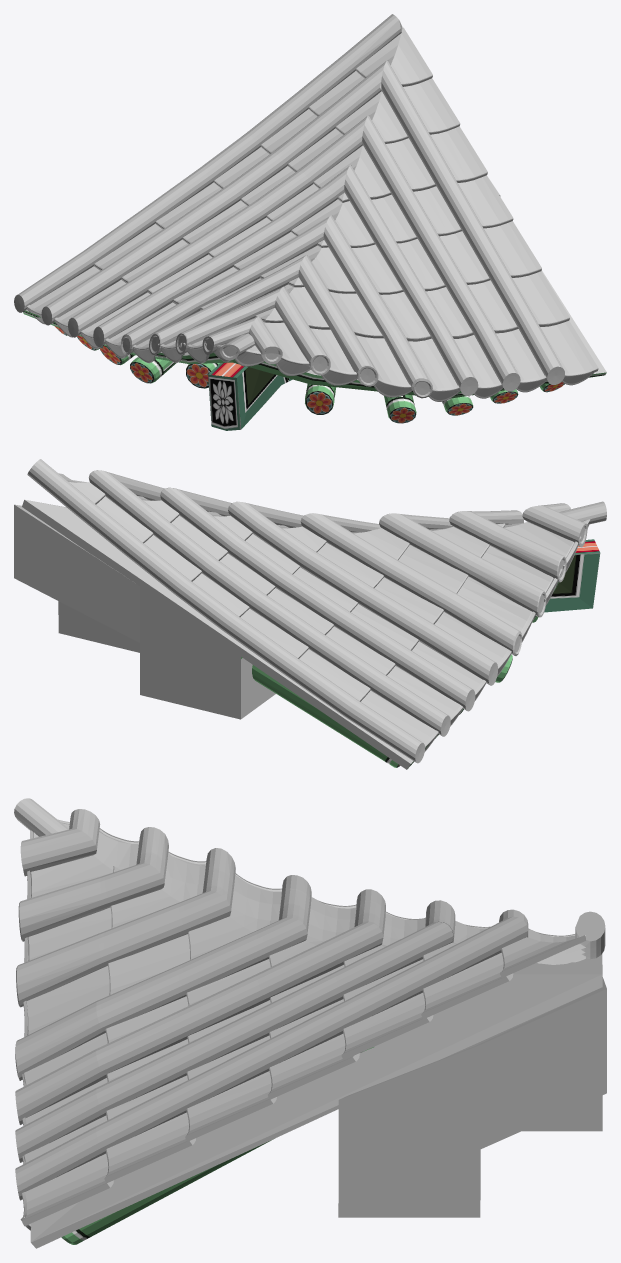
Rendered from SM_R_RoofCorner_9.fbx.
The picture shows the model from 3 angles, top to bottom: view 1: azimuth 30°, elevation 25°; view 2: azimuth 150°, elevation 25°; view 3: azimuth 270°, elevation 25°; orthographic projection. The views are drawn at different scales.
Visible parts, largest first — view 1: SM_R_RoofCorner_9_LOD0; view 2: SM_R_RoofCorner_9_LOD0; view 3: SM_R_RoofCorner_9_LOD0.
Boxes of the visible parts, <box> form: SM_R_RoofCorner_9_LOD0: <box>14,14,606,430</box>; SM_R_RoofCorner_9_LOD0: <box>14,459,606,769</box>; SM_R_RoofCorner_9_LOD0: <box>14,798,606,1248</box>.
Bounding box in the file's own units: 297 × 268 × 173.
